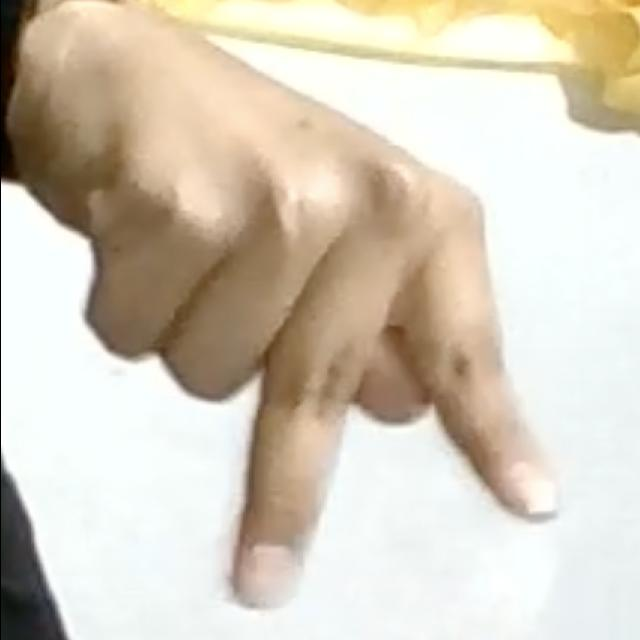K: (59, 20, 582, 612)
